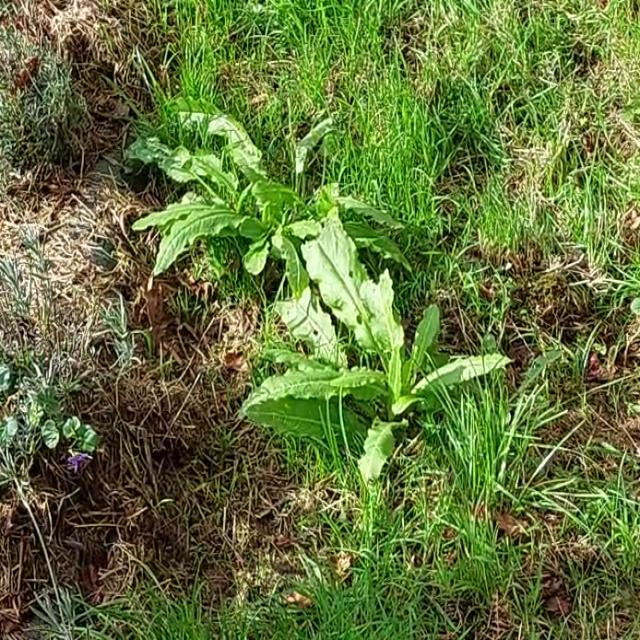organic waste: (201, 208, 488, 492), (100, 72, 388, 339)
